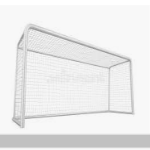goals: (12, 24, 137, 129)
